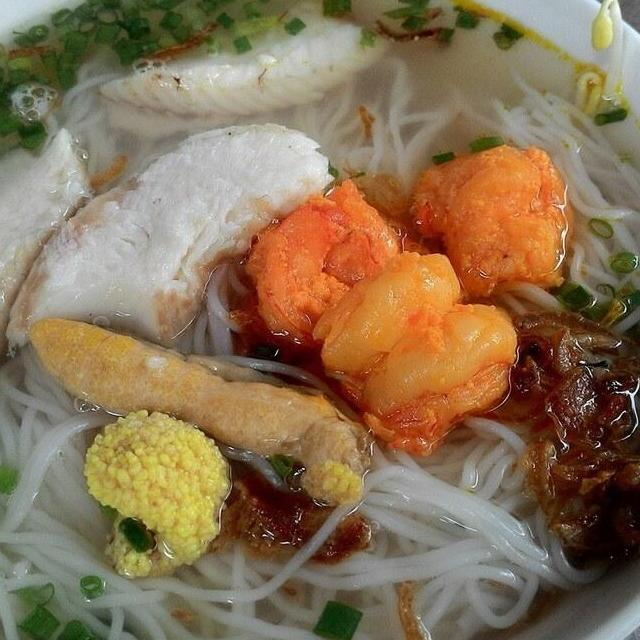bun: (337, 406, 620, 640), (463, 59, 640, 331), (0, 337, 132, 640), (120, 521, 449, 640), (284, 53, 476, 200), (159, 254, 338, 398), (41, 52, 168, 191)
bun ca: (0, 32, 640, 640)
ca: (0, 114, 338, 364), (89, 0, 413, 130), (0, 119, 94, 390)
tom: (304, 247, 526, 466), (235, 172, 419, 360), (395, 136, 581, 310)
